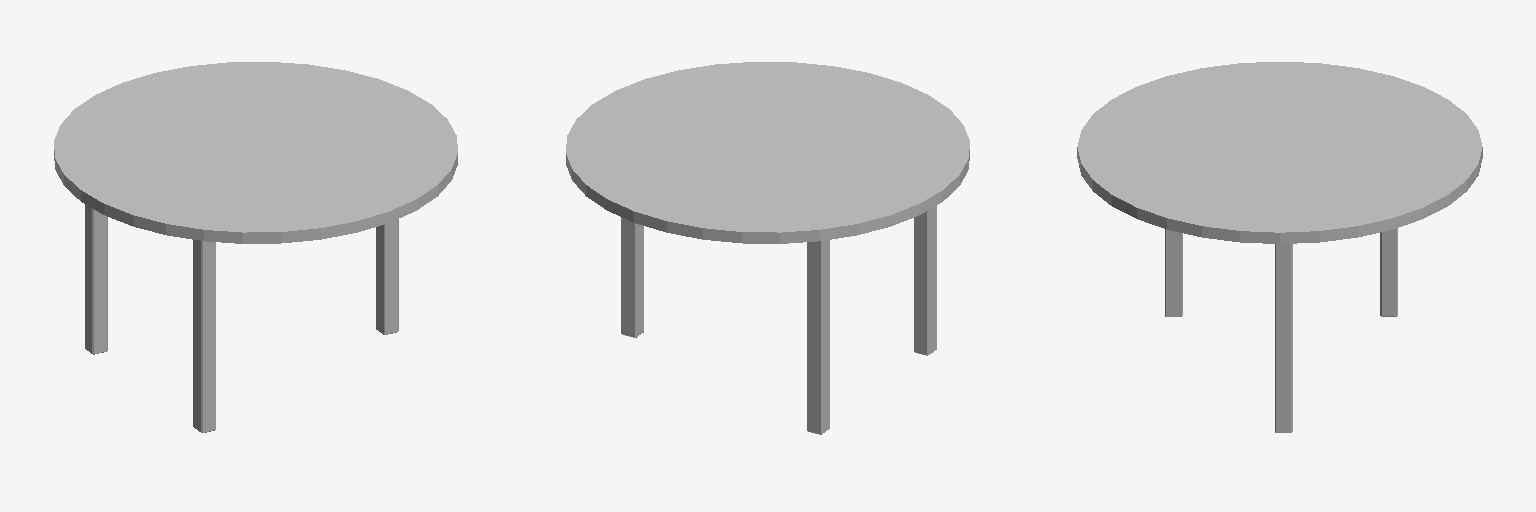
Rendered from masa2.obj.
3 renders of one model, left to right at view 1: azimuth 30°, elevation 25°; view 2: azimuth 150°, elevation 25°; view 3: azimuth 270°, elevation 25°, orthographic.
Parts seen in each view (by area): view 1: Cylinder_Cylinder.002, Cube.000_Cube.006, Cube.003, Cube.001_Cube.007; view 2: Cylinder_Cylinder.002, Cube.003, Cube.000_Cube.006, Cube.001_Cube.007; view 3: Cylinder_Cylinder.002, Cube.001_Cube.007, Cube.003, Cube.000_Cube.006.
Part boxes in pixels (left/top/right/bottom): Cylinder_Cylinder.002: left=54, top=62, right=457, bottom=243; Cube.000_Cube.006: left=193, top=240, right=215, bottom=432; Cube.003: left=85, top=204, right=107, bottom=354; Cube.001_Cube.007: left=376, top=219, right=398, bottom=334; Cylinder_Cylinder.002: left=566, top=62, right=969, bottom=243; Cube.003: left=807, top=240, right=829, bottom=434; Cube.000_Cube.006: left=914, top=205, right=936, bottom=355; Cube.001_Cube.007: left=621, top=217, right=643, bottom=337; Cylinder_Cylinder.002: left=1077, top=62, right=1482, bottom=243; Cube.001_Cube.007: left=1275, top=244, right=1292, bottom=432; Cube.003: left=1380, top=228, right=1397, bottom=316; Cube.000_Cube.006: left=1165, top=229, right=1182, bottom=316.
Bounding box in the file's own units: 2 × 1.19 × 2.